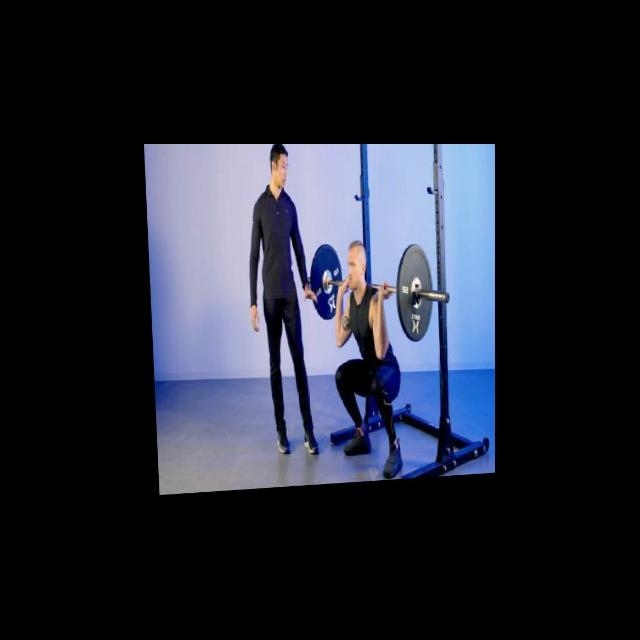barbell: (393, 244, 452, 348)
